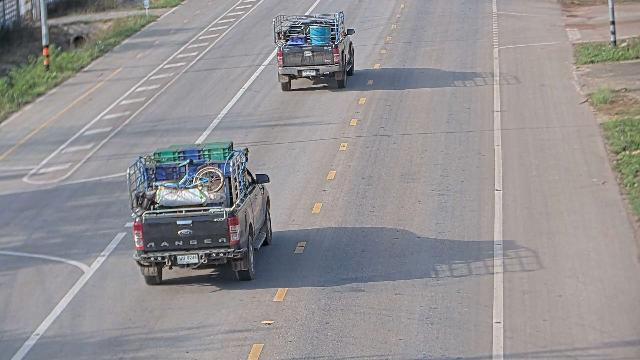pickup-truck: (126, 140, 273, 285), (272, 11, 356, 91)
